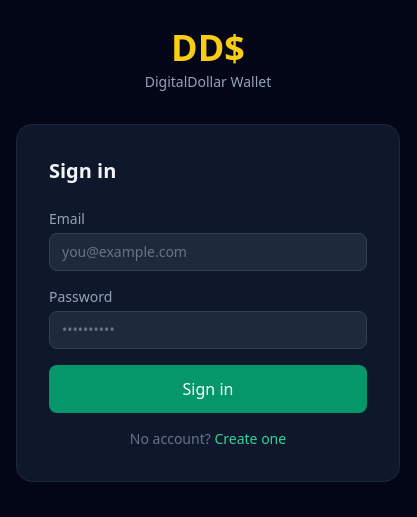
Test: LoginPage › shows an error when login fails
Type "bad@bad.com" into the field labelled "Email" at (208, 252), box [49,233,367,271]
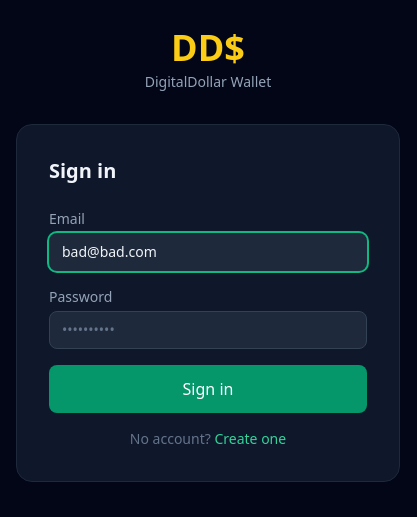
Type "wrong" into the password field labelled "Password" at (208, 330), box [49,311,367,349]
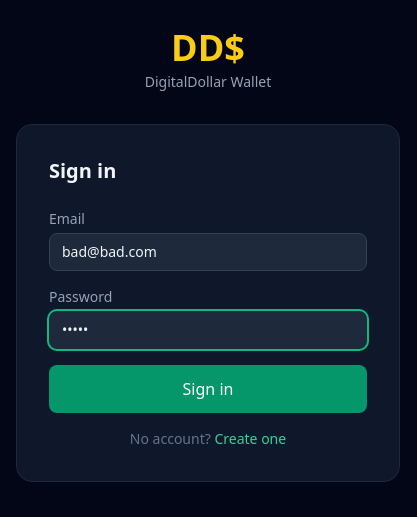
Click the button "Sign in" at (208, 389), box [49,365,367,413]
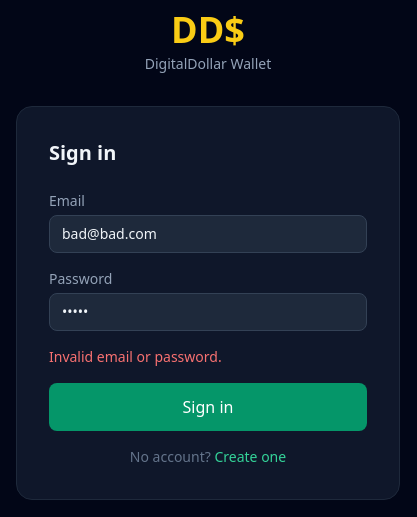
Now the message "Invalid email or password." is shown, box [49,347,222,366]
